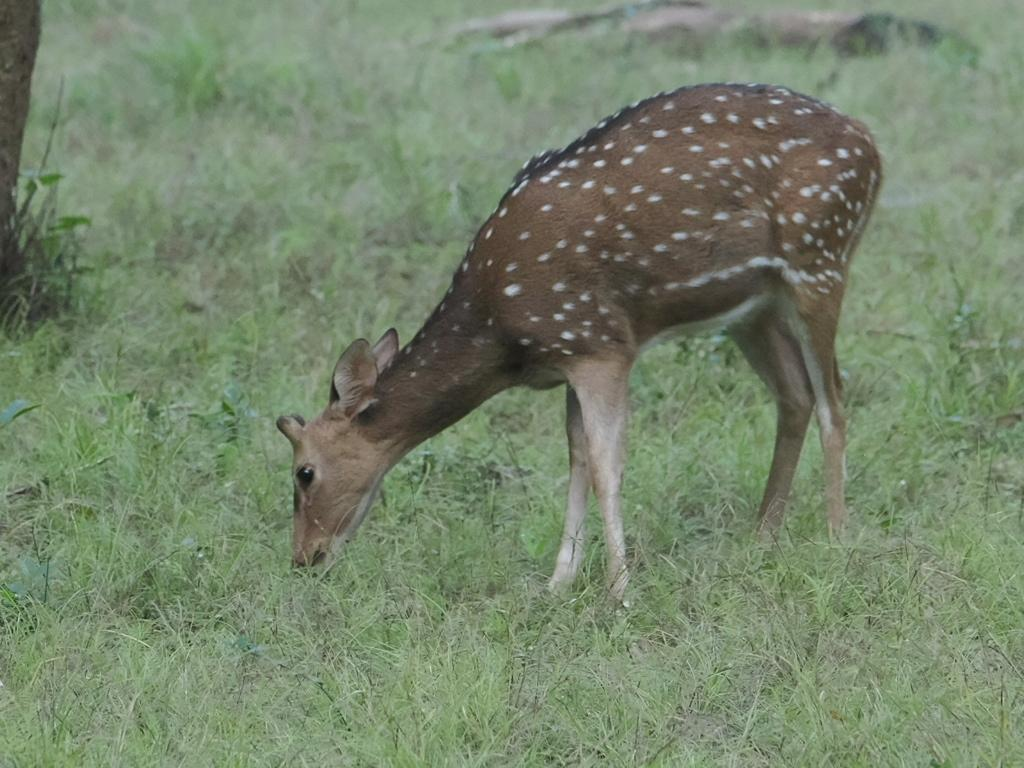Deer: (277, 83, 881, 597)
